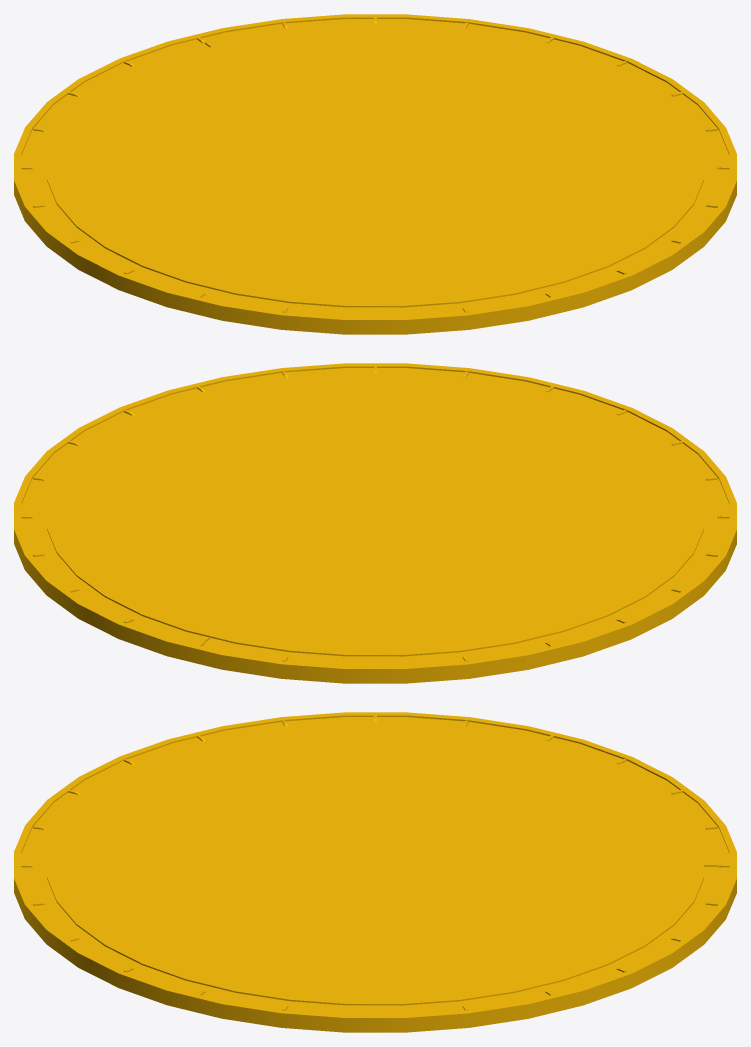
Rendered from RingTimeOfDay.fbx.
3 renders of one model, top to bottom at view 1: azimuth 30°, elevation 25°; view 2: azimuth 150°, elevation 25°; view 3: azimuth 270°, elevation 25°, orthographic.
Visible parts, largest first — view 1: Group1; view 2: Group1; view 3: Group1.
Part boxes in pixels (x1,y1,x2,y2): Group1: (14,14,736,334); Group1: (14,363,736,683); Group1: (14,712,736,1032).
Size of the model in its own units: 449 by 10 by 449.
